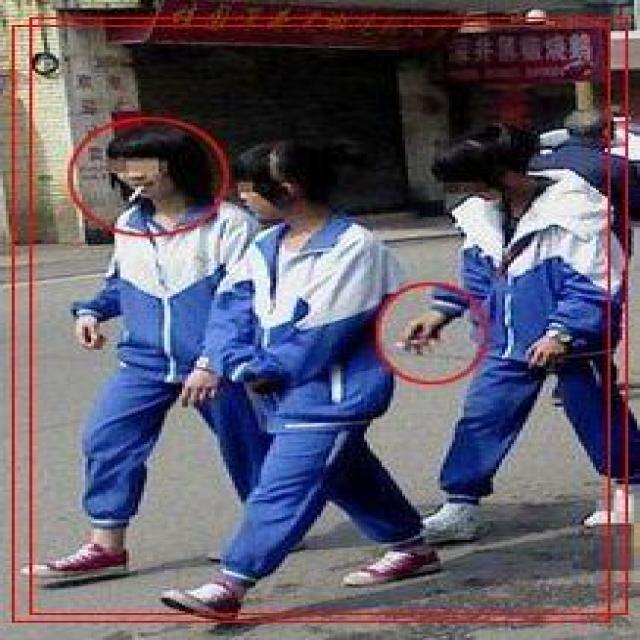cigarette: (116, 184, 160, 208), (387, 338, 426, 358)
